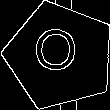O_S: (36, 29, 83, 83)
